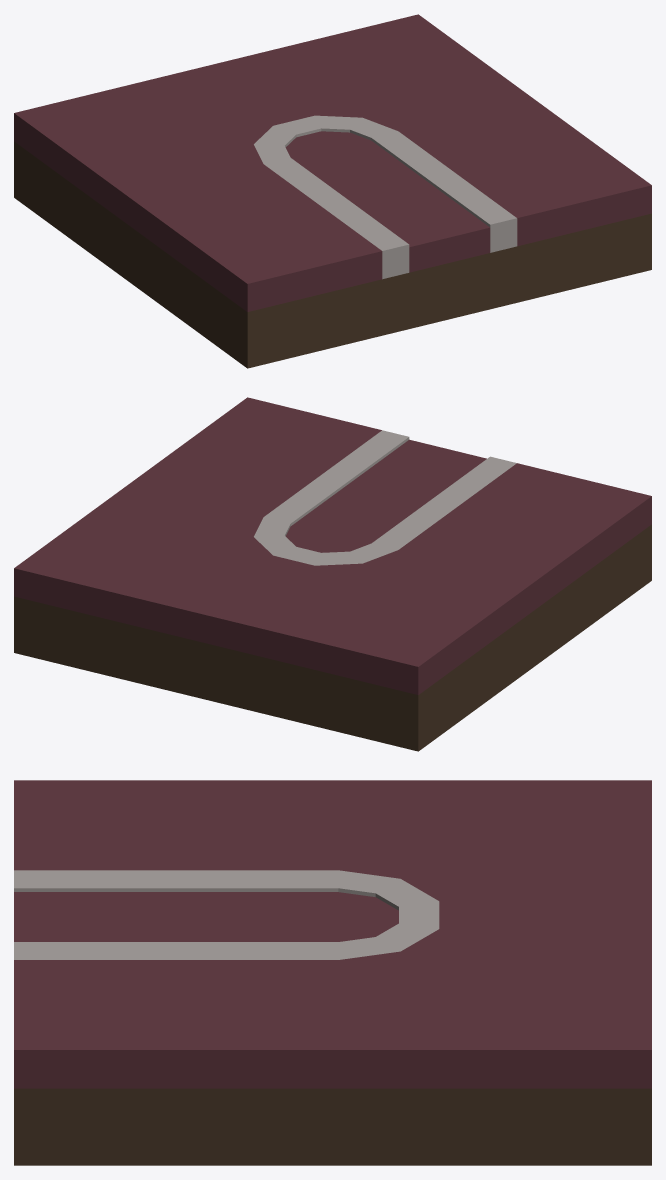
File: tile-road-end.fbx
3 renders of one model, top to bottom at view 1: azimuth 30°, elevation 25°; view 2: azimuth 150°, elevation 25°; view 3: azimuth 270°, elevation 25°, orthographic. The views are drawn at different scales.
Parts seen in each view (by area): view 1: tile-road-end; view 2: tile-road-end; view 3: tile-road-end.
Boxes of the visible parts, box(x1,y1,x2,y2) form: tile-road-end: box(14, 14, 651, 368); tile-road-end: box(14, 397, 651, 751); tile-road-end: box(14, 780, 651, 1165).
Size of the model in its own units: 30 by 6 by 30.
